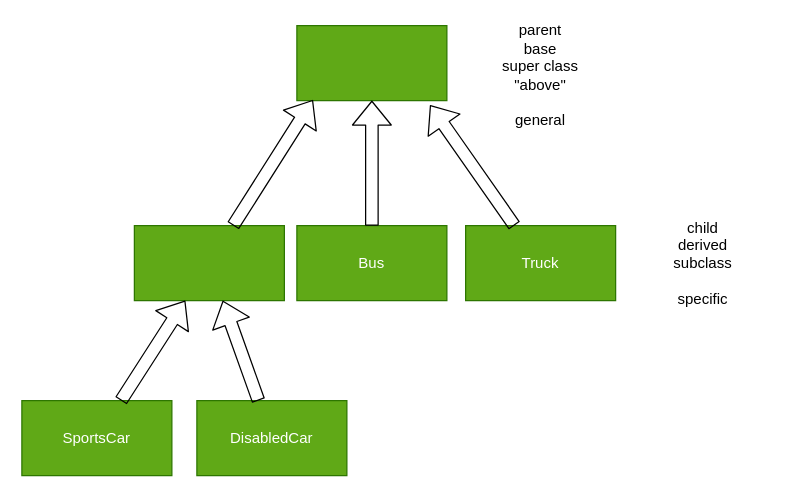
Image size: 794x498. Some labels were removed from this diagram. Here are the shapes that lost their labels. From the top down, the centre of each, then its label:
point 371,62: Vehicle
point 208,262: Car
